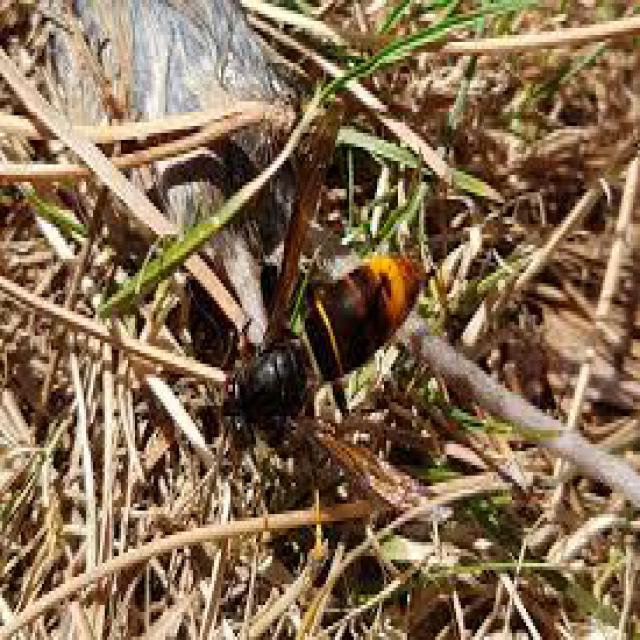Vespa Velutina: (206, 89, 452, 548)
